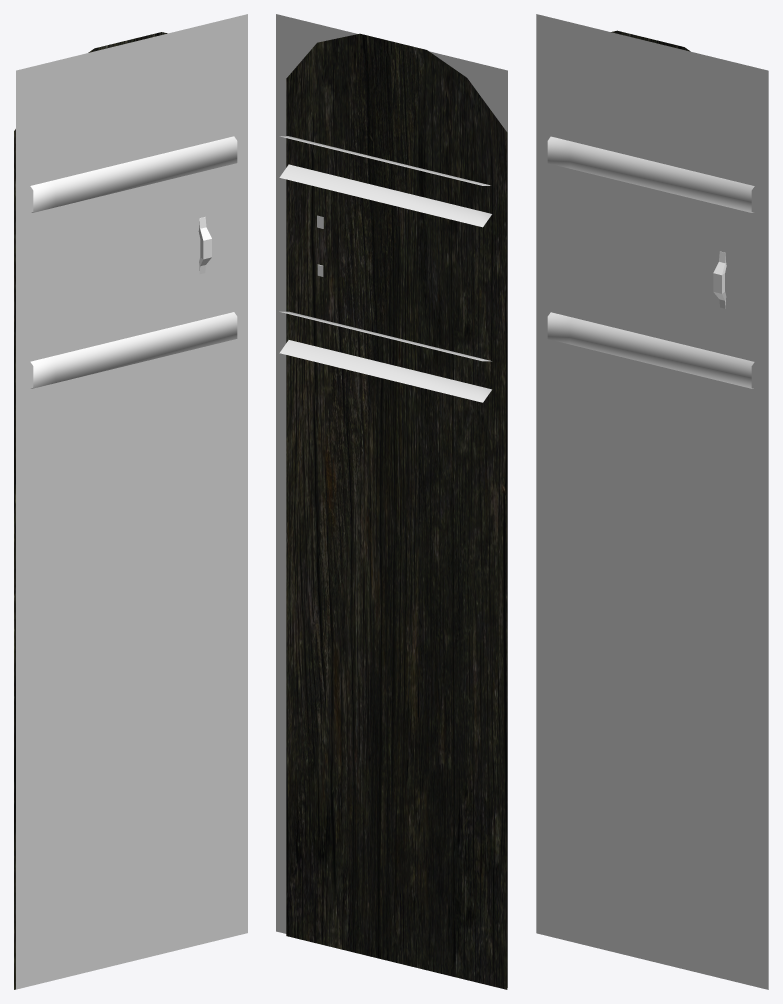
Rendered from ex_nord_door_02.dae.
The picture shows the model from 3 angles, left to right: view 1: azimuth 30°, elevation 25°; view 2: azimuth 150°, elevation 25°; view 3: azimuth 330°, elevation 25°; orthographic projection.
Parts seen in each view (by area): view 1: nifid_15-matrix, nifid_6-matrix, nifid_1-matrix, nifid_10-matrix; view 2: nifid_1-matrix, nifid_15-matrix, nifid_6-matrix, nifid_10-matrix; view 3: nifid_15-matrix, nifid_6-matrix, nifid_10-matrix.
Boxes of the visible parts, box(x1,y1,x2,y2) form: nifid_15-matrix: box(16, 14, 247, 989); nifid_6-matrix: box(53, 136, 237, 382); nifid_1-matrix: box(14, 32, 167, 989); nifid_10-matrix: box(30, 180, 55, 388); nifid_1-matrix: box(286, 33, 507, 989); nifid_15-matrix: box(276, 14, 507, 987); nifid_6-matrix: box(279, 136, 469, 397); nifid_10-matrix: box(460, 180, 491, 402); nifid_15-matrix: box(536, 14, 768, 989); nifid_6-matrix: box(570, 142, 754, 388); nifid_10-matrix: box(547, 136, 572, 344).
Bounding box in the file's own units: 120 × 14.24 × 455.
Materials: 2 (1 with a texture image).
